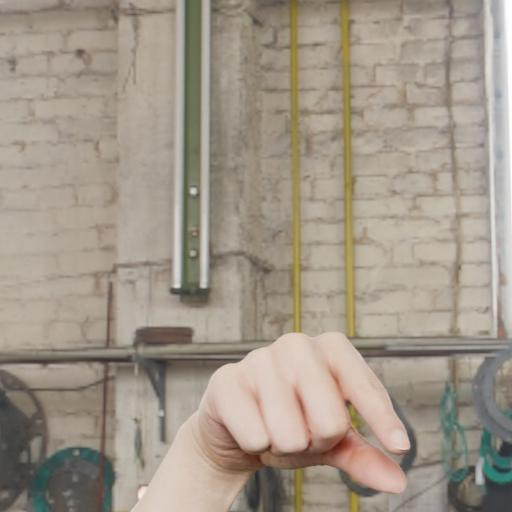Q: (189, 321, 413, 509)
